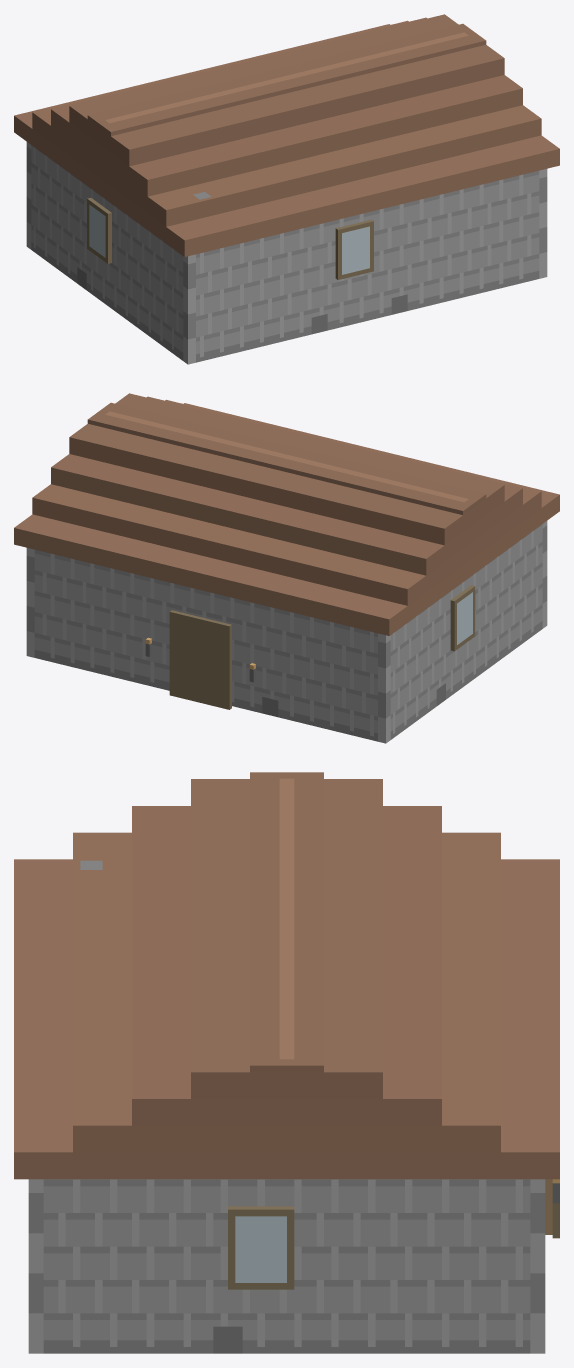
The model's file is carniceria_04.glb.
3 views of the same model, one above another, from view 1: azimuth 30°, elevation 25°; view 2: azimuth 150°, elevation 25°; view 3: azimuth 270°, elevation 25° (orthographic). The views are drawn at different scales.
Visible parts, largest first — view 1: carniceria_04; view 2: carniceria_04; view 3: carniceria_04.
Part boxes in pixels (<box>): carniceria_04: <box>14,14,559,364</box>; carniceria_04: <box>14,393,559,743</box>; carniceria_04: <box>14,772,559,1353</box>.
Bounding box in the file's own units: 9.4 × 4.4 × 7.4.
